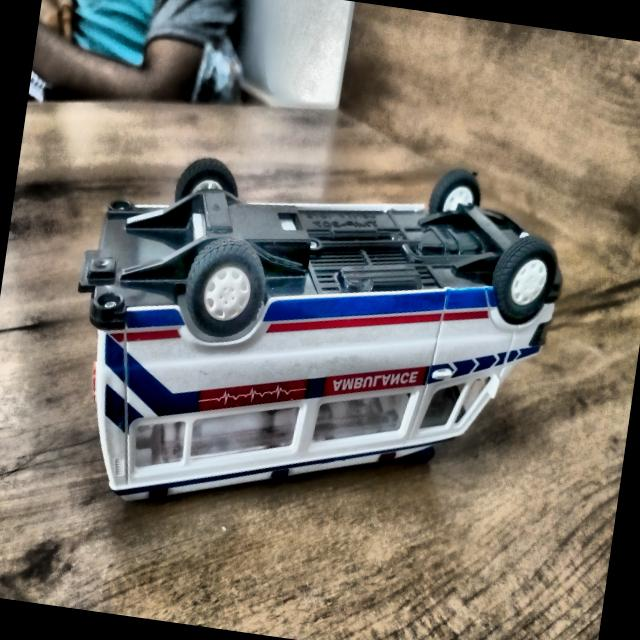Ambulance: (43, 104, 579, 572)
